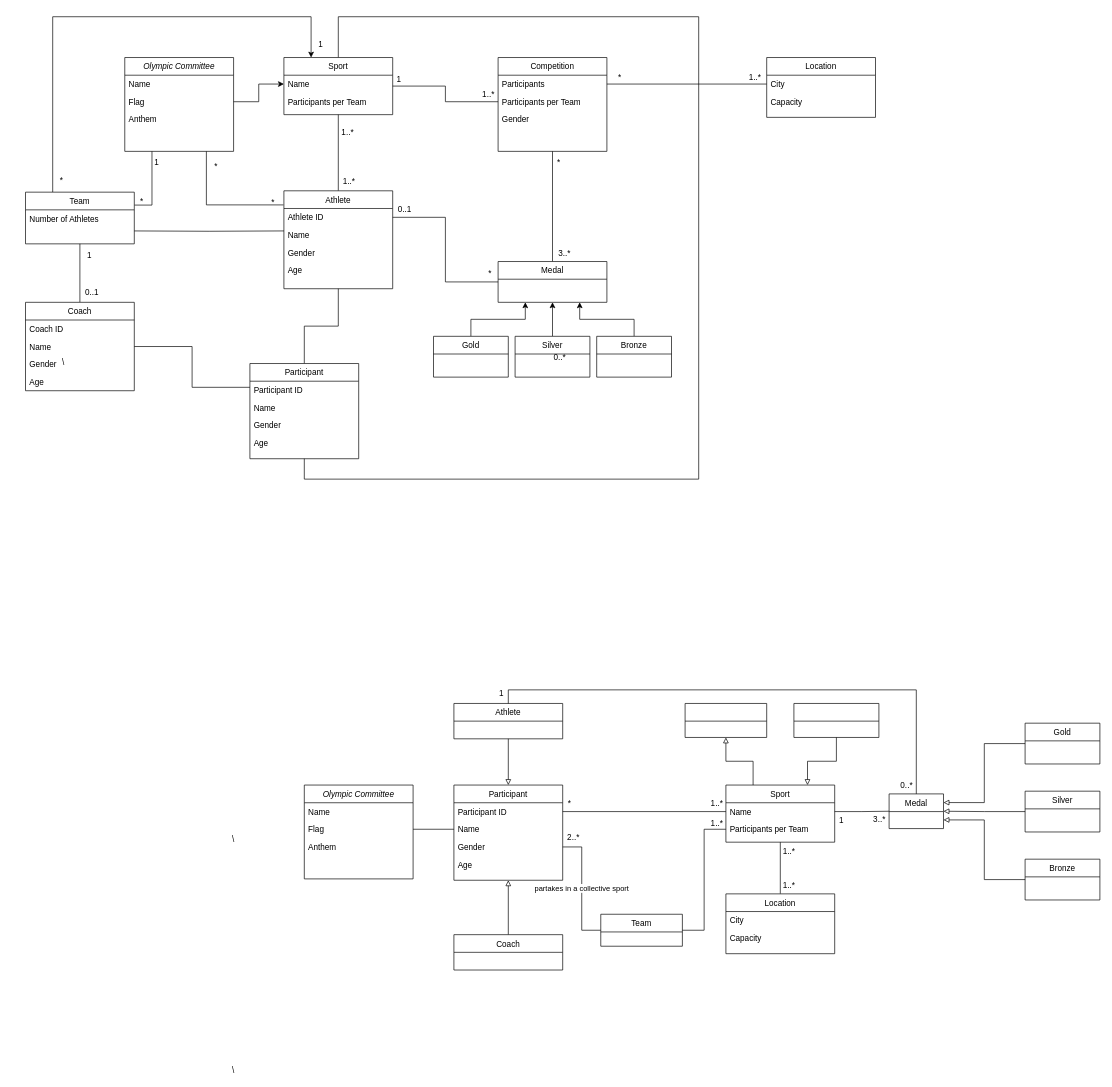
Image size: 1112x1087. Some labels were removed from this diagram. The centre of each missing label's shape, as x and y in pixels:
Collective Sport: the point at 725,720
Individual Sport: the point at 836,720
